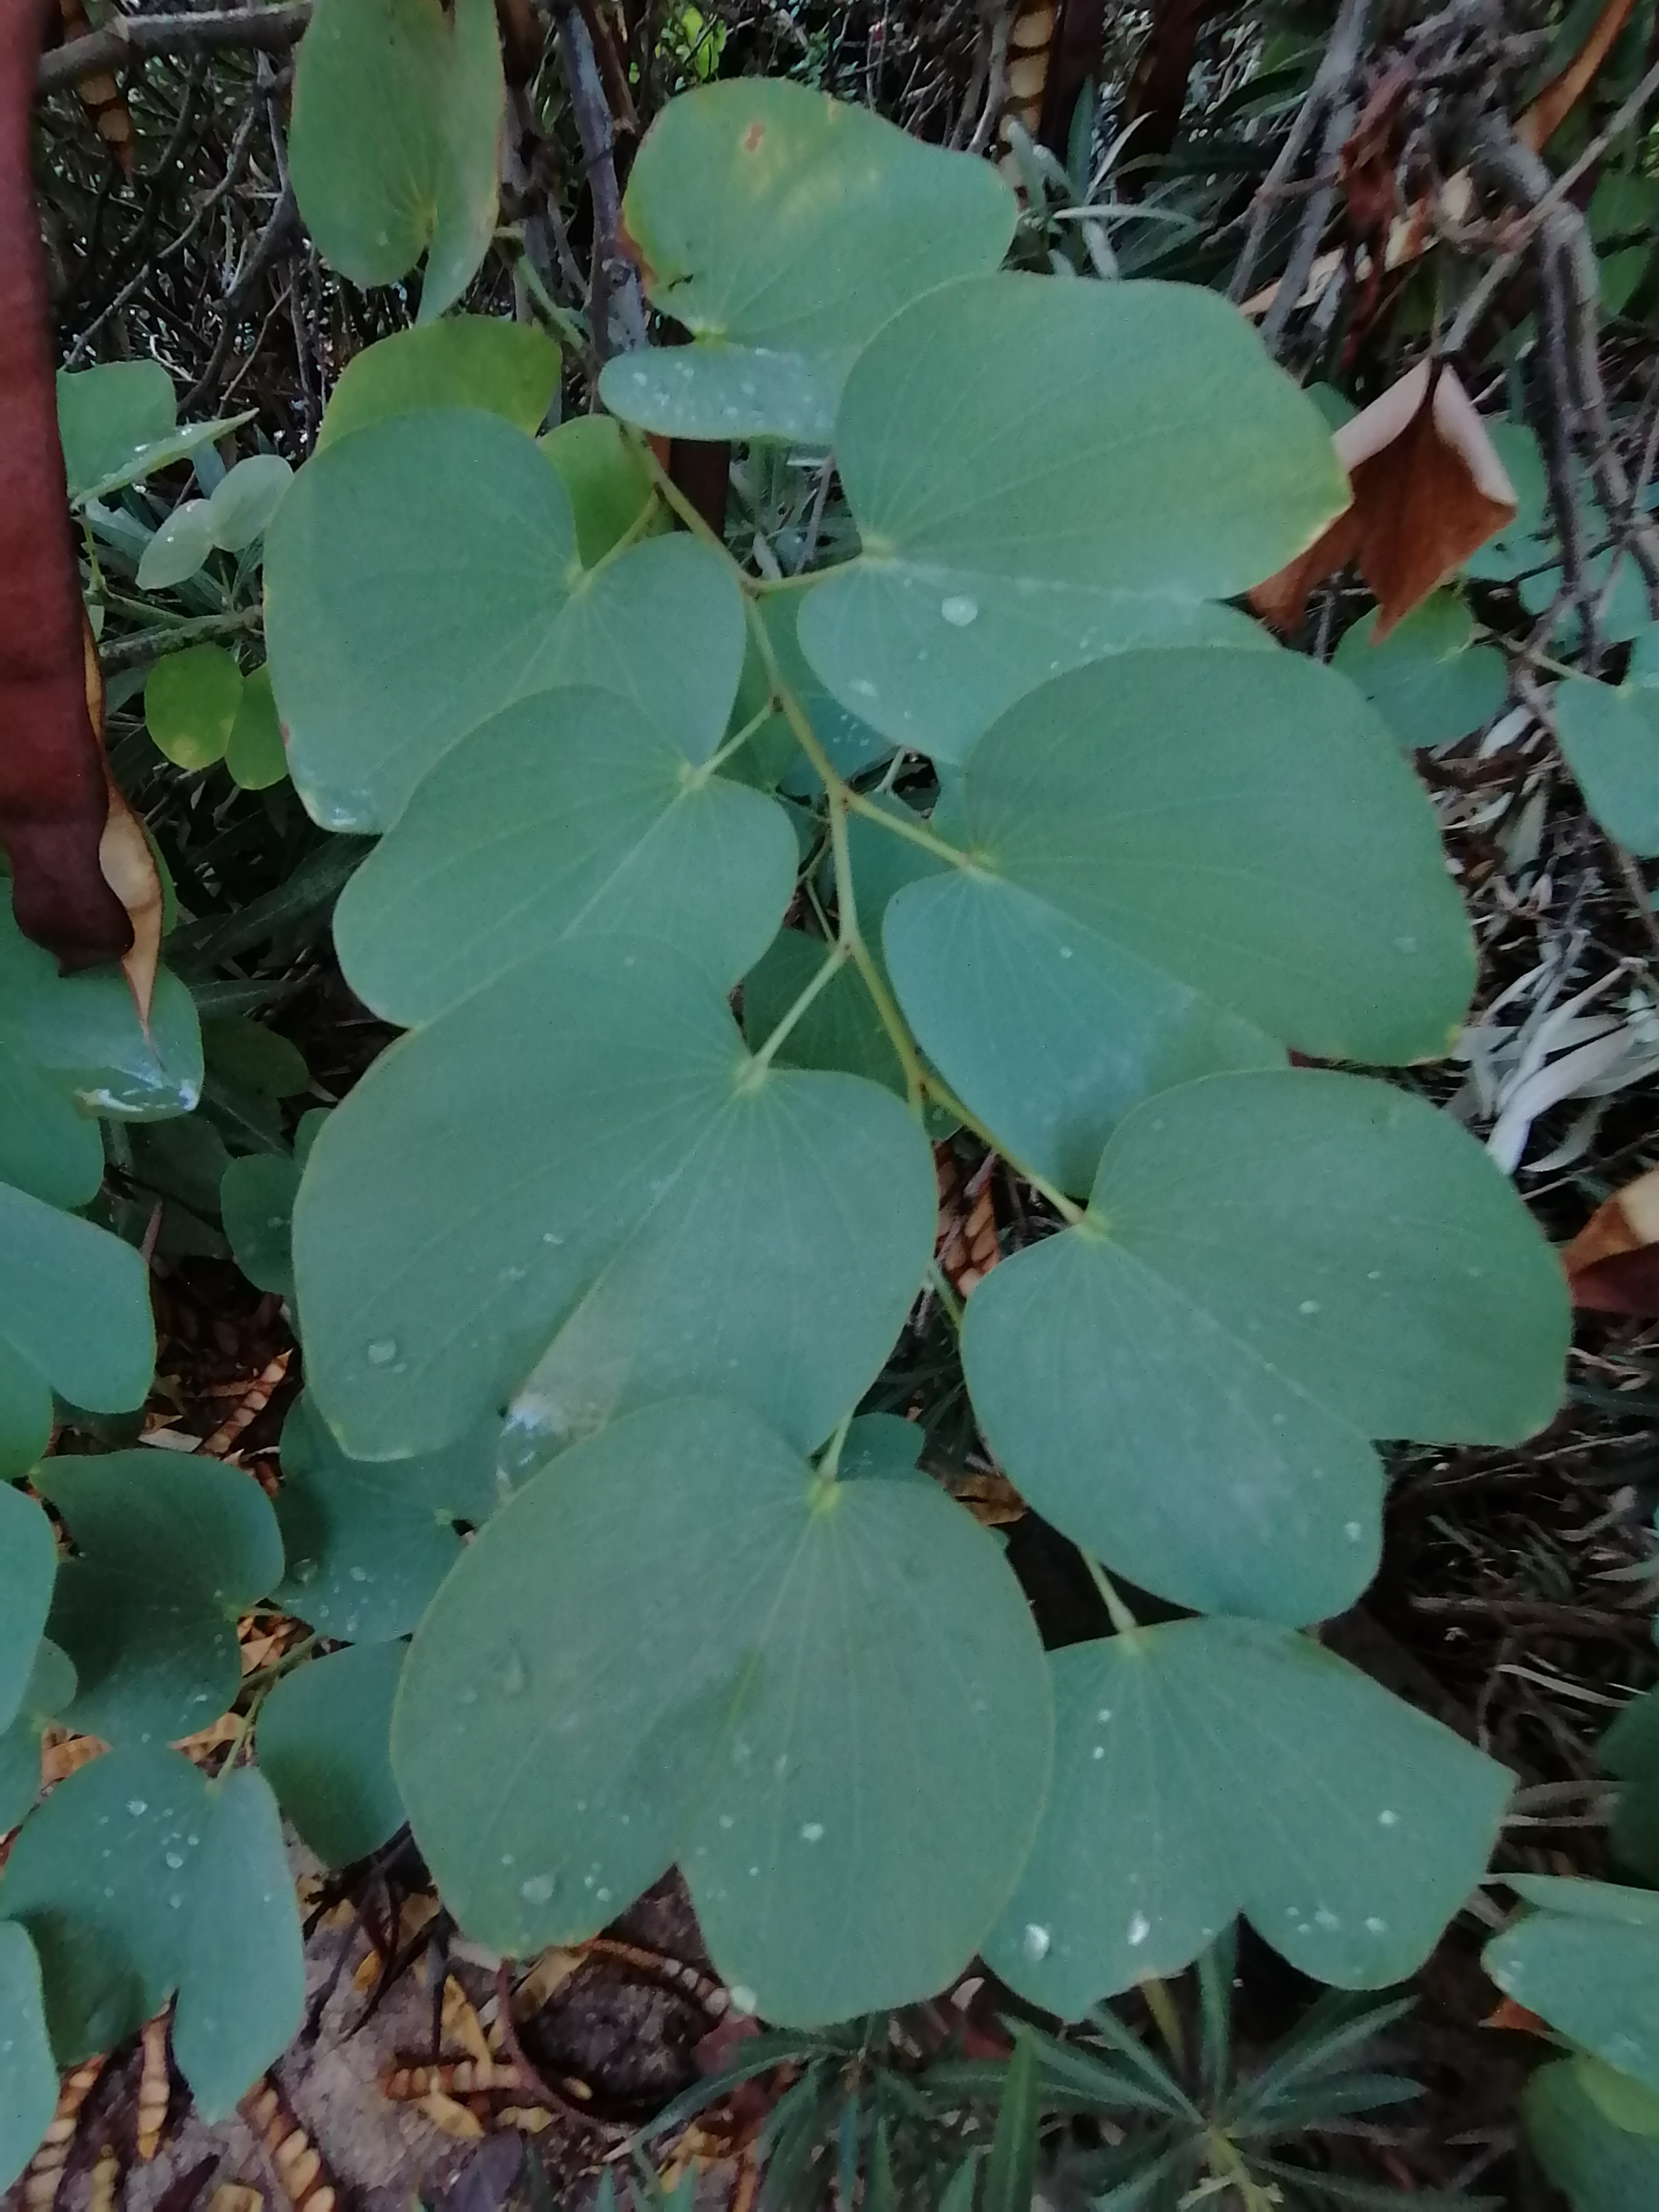healthy: (410, 1458, 1080, 1989), (885, 664, 1521, 1183), (307, 1014, 945, 1454), (1000, 1092, 1574, 1573), (845, 273, 1333, 779), (235, 444, 819, 810), (972, 1618, 1507, 1984), (329, 704, 795, 984)
nothealthy: (568, 110, 1046, 449)
